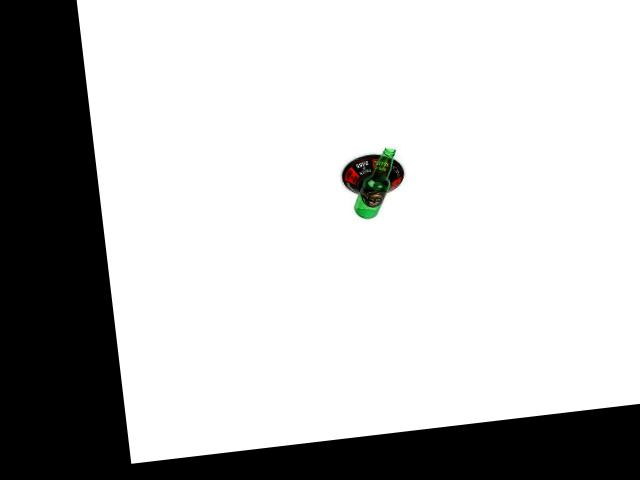beer: (346, 146, 402, 219)
